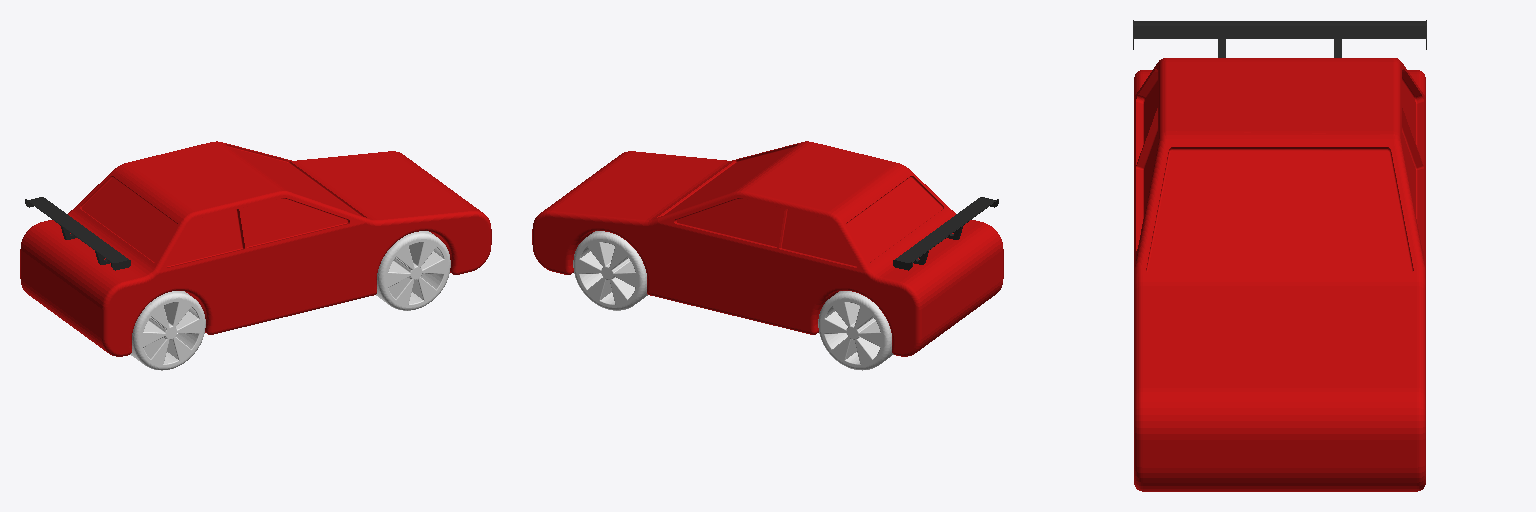
URDF robot description (car):
<?xml version="1.0"?>
<robot name="car">
  <link name="chasis">
    <inertial>
      <origin xyz="0.080665 1.1872E-10 0.16605" rpy="0 0 0" />
      <mass value="56.78" />
      <inertia
        ixx="0.7602" ixy="2.8095E-09" ixz="0.15295"
        iyy="3.3323" iyz="-5.5178E-10" izz="3.5837" />
    </inertial>
    <visual>
      <origin xyz="0 0 0" rpy="0 0 0" />
      <geometry>
        <mesh filename="package://lab7/meshes/chasis.STL" />
      </geometry>
      <material name="Red">
        <color rgba="0.8 0.1 0.1 1" />
      </material>
    </visual>
    <collision>
      <origin xyz="0 0 0" rpy="0 0 0" />
      <geometry>
        <mesh filename="package://lab7/meshes/chasis.STL" />
      </geometry>
    </collision>
  </link>

  <link name="front_axle">
    <inertial>
      <origin xyz="4.2194E-13 6.6368E-12 -1.7421E-12" rpy="0 0 0" />
      <mass value="2.3273" />
      <inertia
        ixx="0.048559" ixy="7.7679E-13" ixz="4.7993E-14"
        iyy="0.0089055" iyz="-8.4669E-14" izz="0.048559" />
    </inertial>
    <visual>
      <origin xyz="0 0 0" rpy="0 0 0" />
      <geometry>
        <mesh filename="package://lab7/meshes/front_axle.STL" />
      </geometry>
      <material name="White">
        <color rgba="0.9 0.9 0.9 1" />
      </material>
    </visual>
    <collision>
      <origin xyz="0 0 0" rpy="0 0 0" />
      <geometry>
        <mesh filename="package://lab7/meshes/front_axle.STL" />
      </geometry>
    </collision>
  </link>

  <joint name="front_axle_joint" type="continuous">
    <origin xyz="0.3897 0 0.085" rpy="0 0 0" />
    <parent link="chasis" />
    <child link="front_axle" />
    <axis xyz="0 -1 0" />
  </joint>

  <link name="rear_axle">
    <inertial>
      <origin xyz="4.2191E-13 6.6371E-12 -1.742E-12" rpy="0 0 0" />
      <mass value="2.3273" />
      <inertia
        ixx="0.048559" ixy="7.768E-13" ixz="4.7991E-14"
        iyy="0.0089055" iyz="-8.4669E-14" izz="0.048559" />
    </inertial>
    <visual>
      <origin xyz="0 0 0" rpy="0 0 0" />
      <geometry>
        <mesh filename="package://lab7/meshes/rear_axle.STL" />
      </geometry>
      <material name="White">
        <color rgba="0.9 0.9 0.9 1" />
      </material>
    </visual>
    <collision>
      <origin xyz="0 0 0" rpy="0 0 0" />
      <geometry>
        <mesh filename="package://lab7/meshes/rear_axle.STL" />
      </geometry>
    </collision>
  </link>

  <joint name="rear_axle_joint" type="continuous">
    <origin xyz="-0.18814 0 0.085" rpy="0 0 0" />
    <parent link="chasis" />
    <child link="rear_axle" />
    <axis xyz="0 -1 0" />
  </joint>

  <link name="spoiler">
    <inertial>
      <origin xyz="0 0 0" rpy="0 0 0" />
      <mass value="0" />
      <inertia
        ixx="0" ixy="0" ixz="0"
        iyy="0" iyz="0" izz="0" />
    </inertial>
    <visual>
      <origin xyz="0 0 0" rpy="0 0 0" />
      <geometry>
        <mesh filename="package://lab7/meshes/spoiler.STL" />
      </geometry>
      <material name="Black">
        <color rgba="0.2 0.2 0.2 1" />
      </material>
    </visual>
    <collision>
      <origin xyz="0 0 0" rpy="0 0 0" />
      <geometry>
        <mesh filename="package://lab7/meshes/spoiler.STL" />
      </geometry>
    </collision>
  </link>

  <joint name="spoiler_joint" type="fixed">
    <origin xyz="-0.29658 0 0.22246" rpy="0 0 0" />
    <parent link="chasis" />
    <child link="spoiler" />
    <axis xyz="0 0 0" />
  </joint>

  <!-- Gazebo plugins -->
  <gazebo>
    <plugin filename="libgazebo_ros2_control.so" name="gazebo_ros2_control">
      <parameters>[local-path]/ros2_ws/src/lab7/config/control.yaml</parameters>
      <robot_param>robot_description</robot_param>
      <robot_param_node>robot_state_publisher</robot_param_node>
    </plugin>
  </gazebo>

  <gazebo reference="chasis">
    <material>Gazebo/Red</material>
  </gazebo>

  <gazebo reference="front_axle">
    <material>Gazebo/White</material>
  </gazebo>

  <gazebo reference="rear_axle">
    <material>Gazebo/White</material>
  </gazebo>

  <gazebo reference="spoiler">
    <material>Gazebo/Black</material>
  </gazebo>

  <!-- ROS 2 Differential Drive Controller -->
  <gazebo>
    <plugin name="diff_drive" filename="libgazebo_ros_diff_drive.so">
      <ros>
        <namespace>/</namespace>
      </ros>

      <!-- Wheel Information -->
      <left_joint>front_axle_joint</left_joint>
      <right_joint>front_axle_joint</right_joint>
      <wheel_separation>0.577</wheel_separation>
      <wheel_diameter>0.17</wheel_diameter>

      <!-- Limits -->
      <max_wheel_torque>20</max_wheel_torque>
      <max_wheel_acceleration>2.0</max_wheel_acceleration>

      <!-- Output -->
      <odometry_frame>odom</odometry_frame>
      <robot_base_frame>chasis</robot_base_frame>

      <publish_odom>true</publish_odom>
      <publish_odom_tf>true</publish_odom_tf>
      <publish_wheel_tf>true</publish_wheel_tf>

      <odometry_source>world</odometry_source>

      <!-- Update Rate -->
      <update_rate>50.0</update_rate>
    </plugin>
  </gazebo>

</robot>

--- What the picture shows (computed from the rendered views, not written in the file) ---
The picture shows the robot from 3 angles, left to right: view 1: azimuth 30°, elevation 25°; view 2: azimuth 150°, elevation 25°; view 3: azimuth 270°, elevation 25°; orthographic projection.
Model car with 4 links and 3 joints (2 continuous, 1 fixed), rooted at chasis, posed every joint at zero.
Visible links, largest first — view 1: chasis, rear_axle, front_axle, spoiler; view 2: chasis, front_axle, rear_axle, spoiler; view 3: chasis, spoiler.
Boxes of the visible links, x1,y1,x2,y2 form: chasis: [20, 141, 491, 356]; rear_axle: [130, 291, 205, 370]; front_axle: [376, 231, 450, 310]; spoiler: [25, 197, 130, 270]; chasis: [532, 141, 1003, 356]; front_axle: [573, 231, 647, 310]; rear_axle: [818, 291, 893, 370]; spoiler: [893, 197, 998, 270]; chasis: [1134, 58, 1425, 491]; spoiler: [1133, 20, 1426, 57].
Bounding box of the posed robot: 0.9174 × 0.354 × 0.3253 m (x, y, z).
4 mesh visuals loaded from 4 distinct referenced files (4 binary STL).